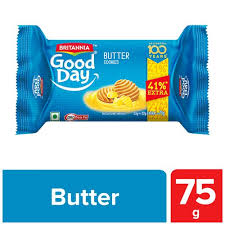gooday-medium: (13, 39, 206, 123)
